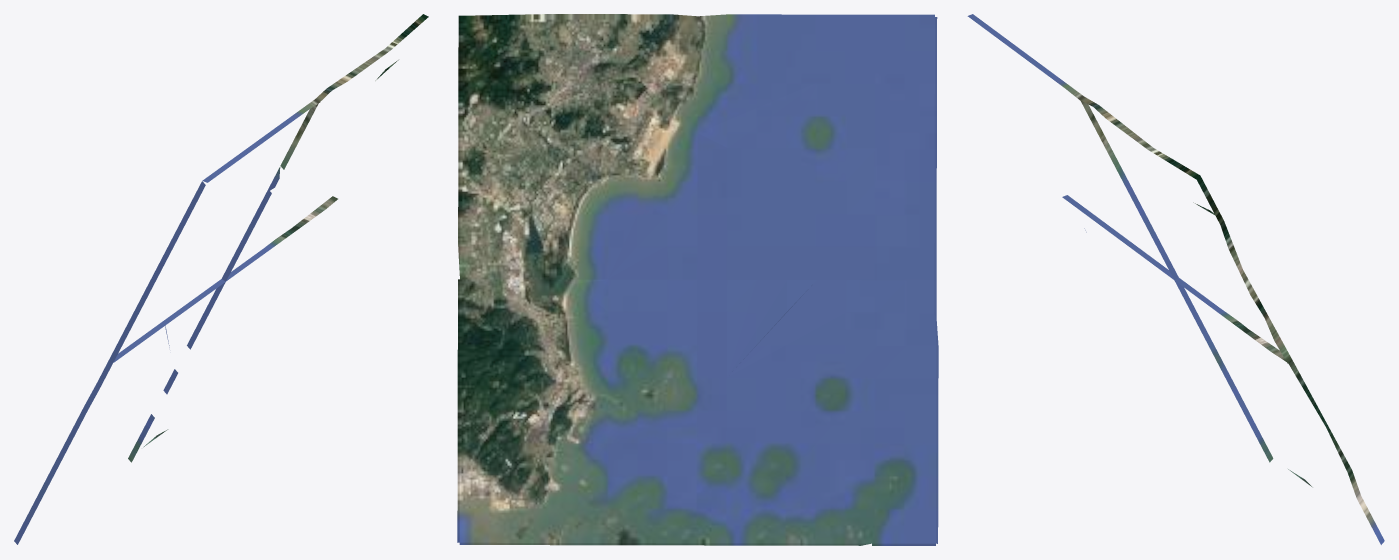
The picture shows the model from 3 angles, left to right: view 1: azimuth 30°, elevation 25°; view 2: azimuth 150°, elevation 25°; view 3: azimuth 270°, elevation 25°; orthographic projection. The views are drawn at different scales.
Bounding box in the file's own units: 39382 × 35831 × 32769.
1 material, 1 textured.
